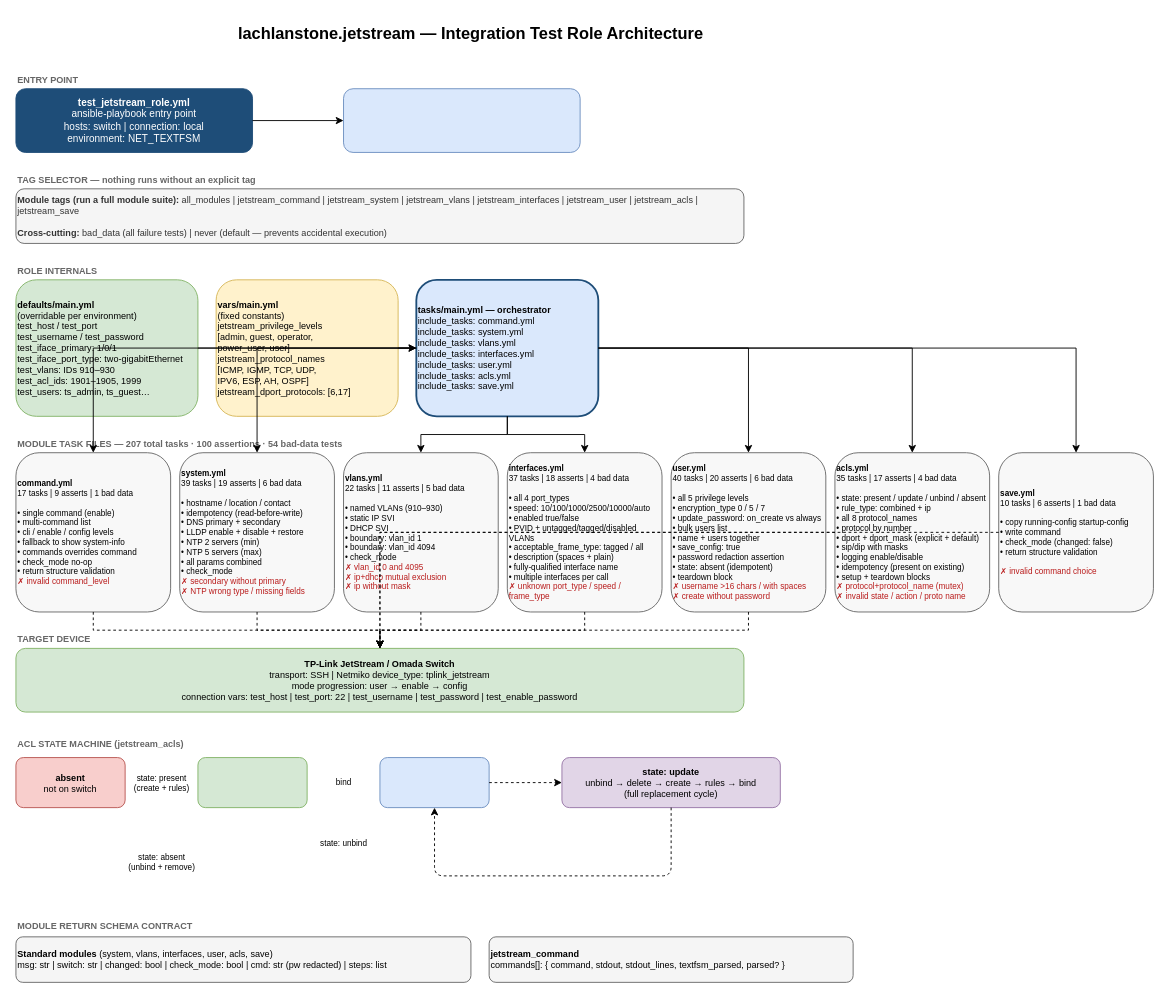
The diagram is 1169 pixels wide and 998 high, and some of its shapes have lost their labels. The shapes that lost their labels are listed below. From the top down, each one's centre as x and y in pixels, then its label:
(x=461, y=120): role: jetstream_tests tests/ansible/roles/jetstream_tests/
(x=252, y=782): present unbound
(x=434, y=782): present bound to VLAN
